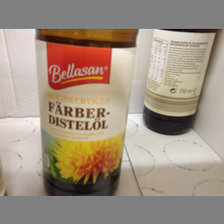oil: (35, 29, 140, 194)
